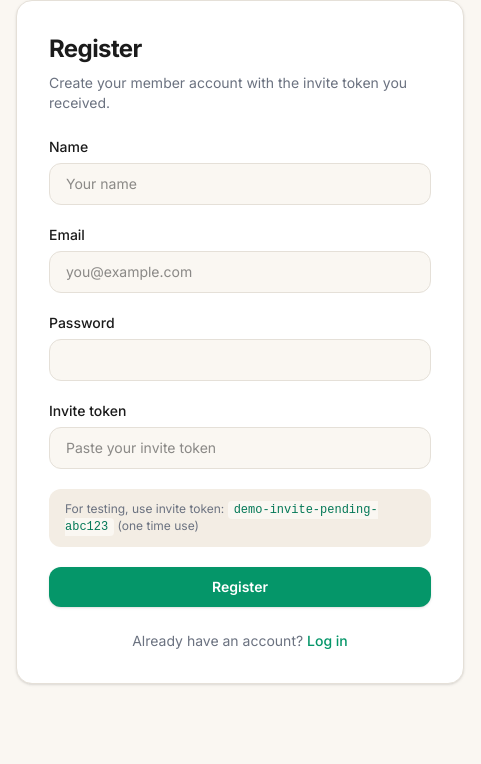
Test: shows the backend message on a 409 duplicate-email response
Type "New Person" into the field labelled "Name" at (240, 184), box [49,163,431,205]
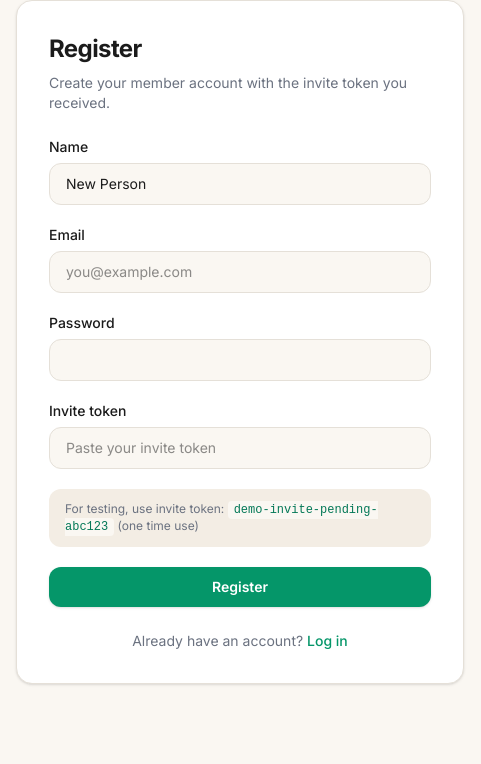
Type "alice@example.com" into the field labelled "Email" at (240, 272), box [49,251,431,293]
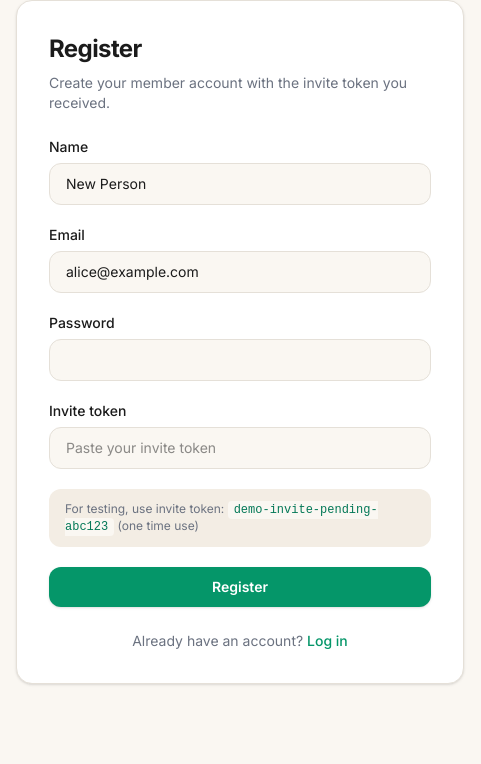
Type "password123" into the password field labelled "Password" at (240, 360), box [49,339,431,381]
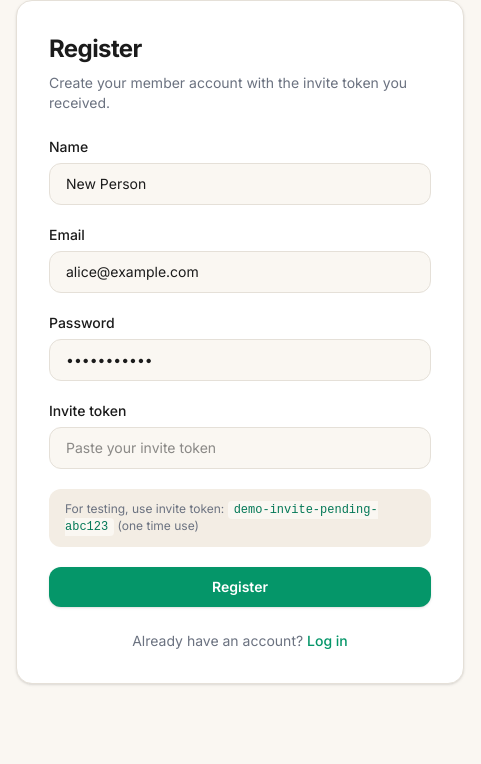
Type "tok-1" into the field labelled "Invite token" at (240, 448), box [49,427,431,469]
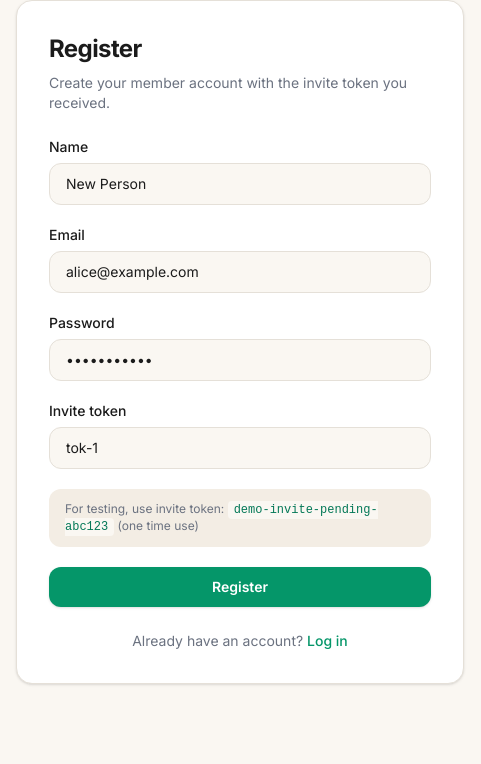
Click the button "Register" at (240, 587), box [49,567,431,607]
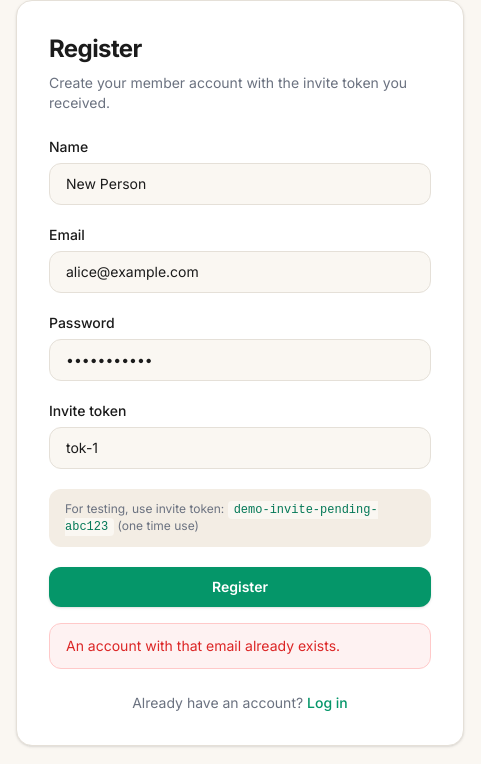
Result: the message reads "An account with that email already exists." at [66,637,340,654]
